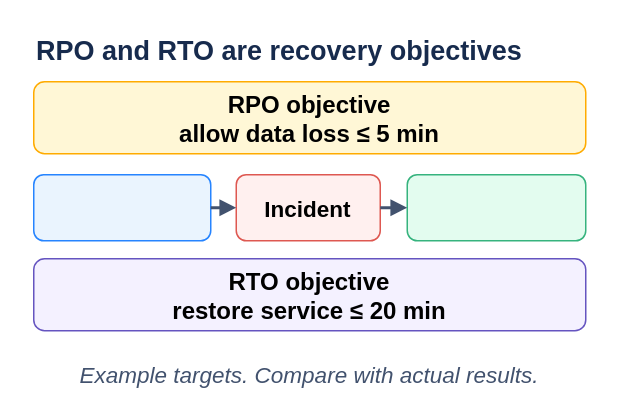
Some shapes in this 620 by 411 pixel diagram are drawn without their labels. Each missing label, with the centre of its shape:
"Recoverable point" belongs at (121,207).
"Service restored" belongs at (496,207).
